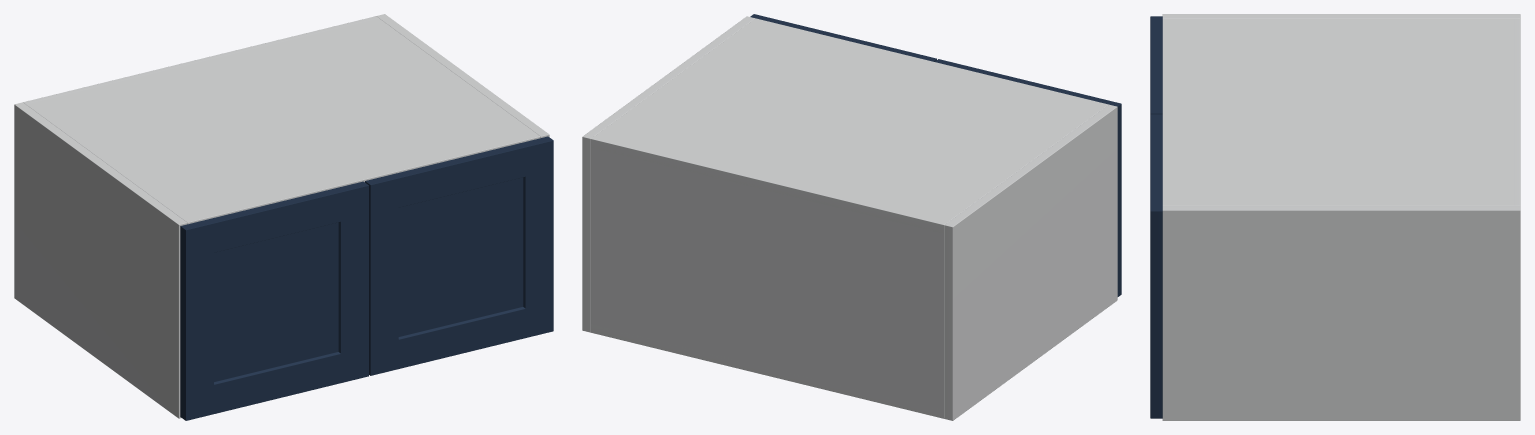
The model's file is oppein-pb-bss-w301524.glb.
3 renders of one model, left to right at view 1: azimuth 30°, elevation 25°; view 2: azimuth 150°, elevation 25°; view 3: azimuth 270°, elevation 25°, orthographic. The views are drawn at different scales.
Parts seen in each view (by area): view 1: Cabinet top, Door, Door.001, Cabinet side, Cabinet side.001, Cabinet back; view 2: Cabinet back, Cabinet top, Cabinet side, Cabinet side.001, Door, Cabinet bottom, Door.001; view 3: Cabinet side.001, Cabinet top, Door.001, Cabinet side, Cabinet back, Door.
Part boxes in pixels (x1,y1,x2,y2): Cabinet top: (23,16,540,224); Door: (180,181,368,420); Door.001: (365,136,553,375); Cabinet side: (14,102,187,418); Cabinet side.001: (376,14,549,137); Cabinet back: (23,16,378,104); Cabinet back: (591,136,946,418); Cabinet top: (591,18,1108,233); Cabinet side: (944,104,1117,420); Cabinet side.001: (582,16,754,332); Door: (935,59,1121,296); Cabinet bottom: (591,324,943,417); Door.001: (750,14,936,61); Cabinet side.001: (1162,206,1520,420); Cabinet top: (1162,18,1520,205); Door.001: (1150,114,1162,418); Cabinet side: (1162,14,1520,18); Cabinet back: (1513,18,1520,205); Door: (1150,16,1162,114).
Size of the model in its own units: 0.762 by 0.381 by 0.6064.
